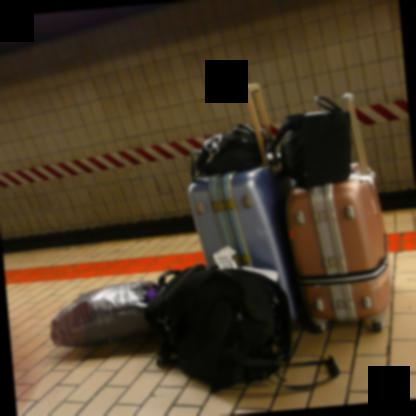backpack: (145, 261, 345, 395)
handbag: (265, 96, 353, 188), (148, 263, 204, 345), (189, 123, 264, 179)
suitcase: (188, 86, 303, 320), (285, 89, 390, 333)
